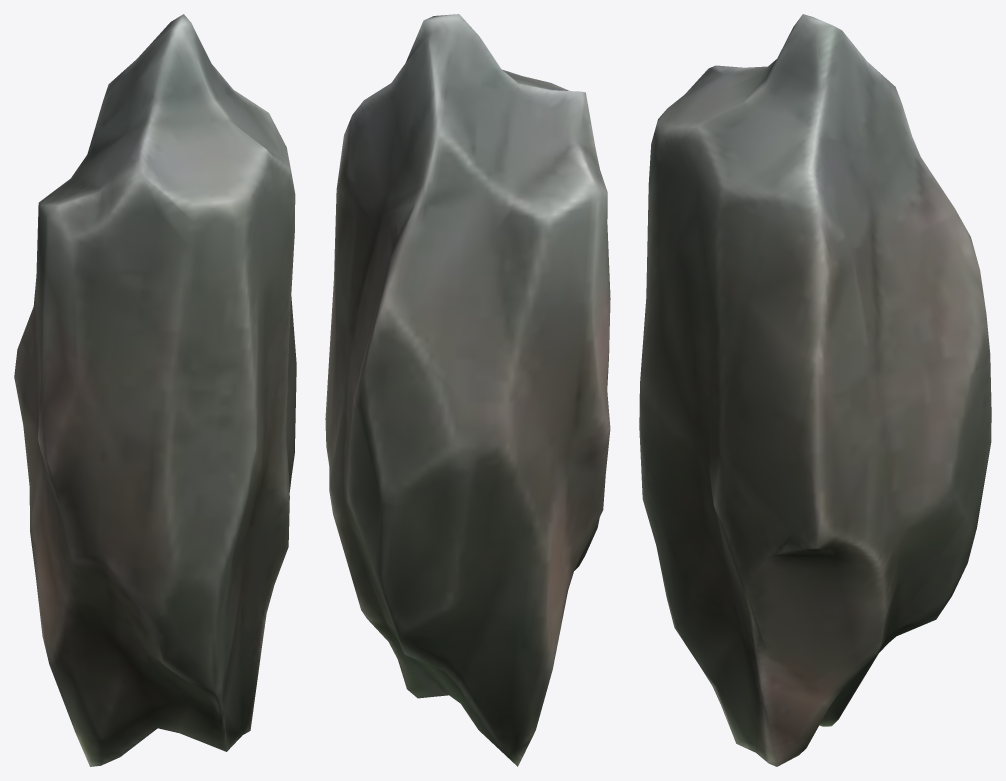
File: stone_small_6.glb
The picture shows the model from 3 angles, left to right: view 1: azimuth 30°, elevation 25°; view 2: azimuth 150°, elevation 25°; view 3: azimuth 270°, elevation 25°; orthographic projection. The views are drawn at different scales.
Visible parts, largest first — view 1: Small_6; view 2: Small_6; view 3: Small_6.
Boxes of the visible parts, box(x1,y1,x2,y2) form: Small_6: box(14, 14, 296, 766); Small_6: box(325, 14, 610, 766); Small_6: box(639, 14, 991, 766).
Bounding box in the file's own units: 0.873 × 2.27 × 0.9688.
1 material, 1 textured.
